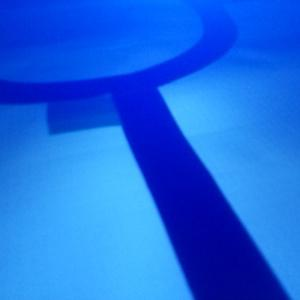bottom_left: (48, 79, 157, 134)
